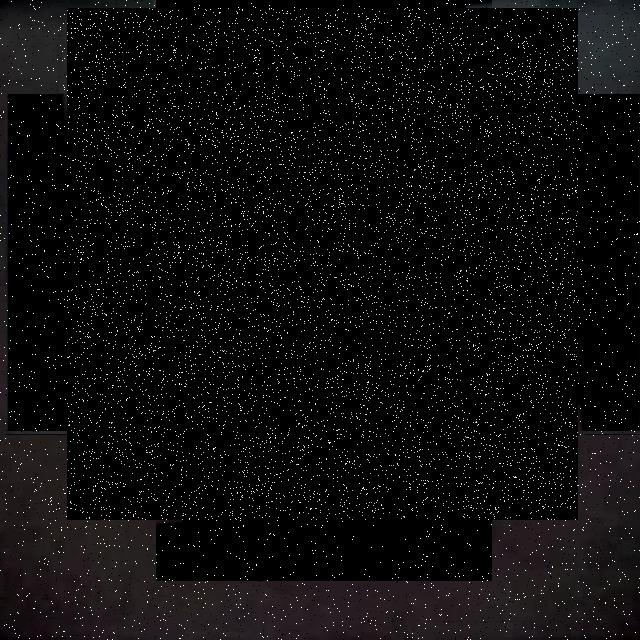dua puluh ribu rupiah: (67, 8, 578, 520)
